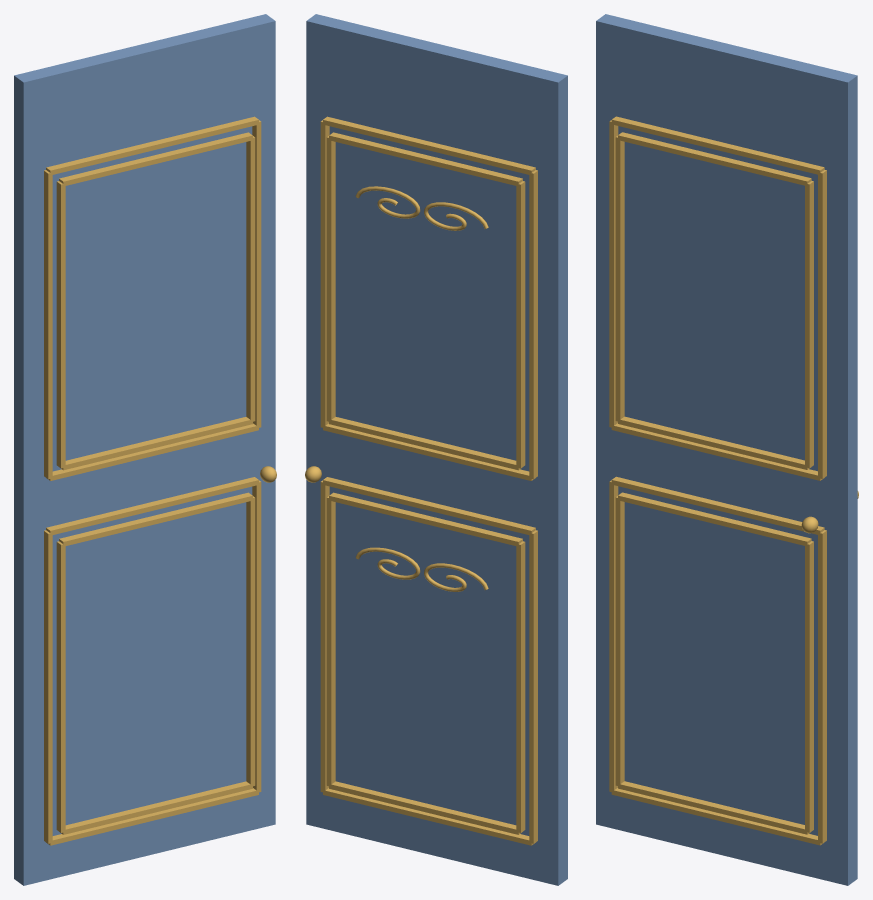
File: KRM_DOOR_08_Entrance_door_hinge_LEFT.fbx
The picture shows the model from 3 angles, left to right: view 1: azimuth 30°, elevation 25°; view 2: azimuth 150°, elevation 25°; view 3: azimuth 330°, elevation 25°; orthographic projection.
Parts seen in each view (by area): view 1: KRM_DOOR_08_Entrance_door_hinge_LEFT; view 2: KRM_DOOR_08_Entrance_door_hinge_LEFT; view 3: KRM_DOOR_08_Entrance_door_hinge_LEFT.
Boxes of the visible parts, box(x1,y1,x2,y2) form: KRM_DOOR_08_Entrance_door_hinge_LEFT: box(14, 14, 276, 885); KRM_DOOR_08_Entrance_door_hinge_LEFT: box(305, 14, 567, 885); KRM_DOOR_08_Entrance_door_hinge_LEFT: box(596, 14, 858, 885).
Size of the model in its own units: 302 by 920 by 104.
1 material, 1 textured.
